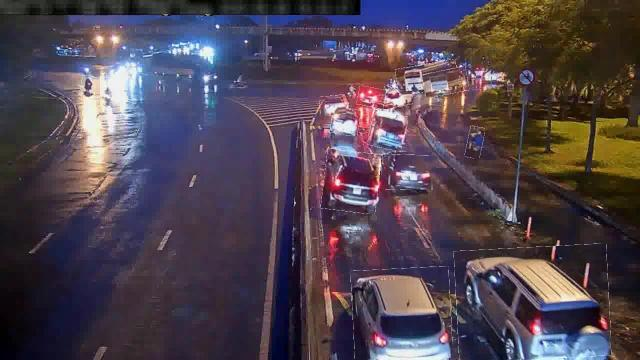Bike: (466, 126, 484, 158), (80, 76, 94, 96), (101, 86, 112, 106)
Bus: (396, 62, 459, 94)
Car: (456, 245, 610, 359), (352, 267, 452, 359), (322, 150, 380, 214), (382, 154, 432, 190), (369, 112, 407, 150), (330, 107, 360, 135), (381, 88, 413, 108), (358, 87, 387, 108), (319, 96, 346, 116)
Truck: (423, 68, 469, 96)
